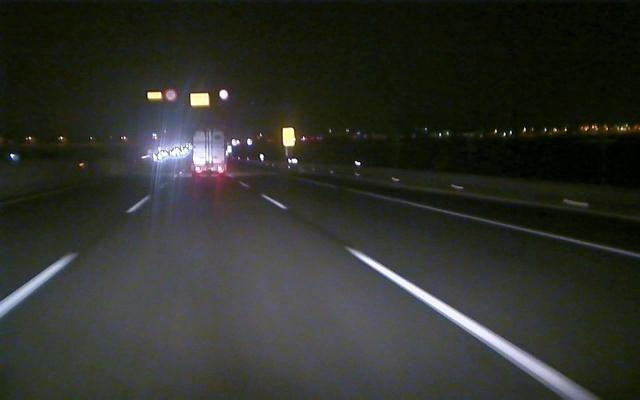lane: (267, 197, 602, 399), (376, 194, 640, 258), (1, 200, 144, 316)
